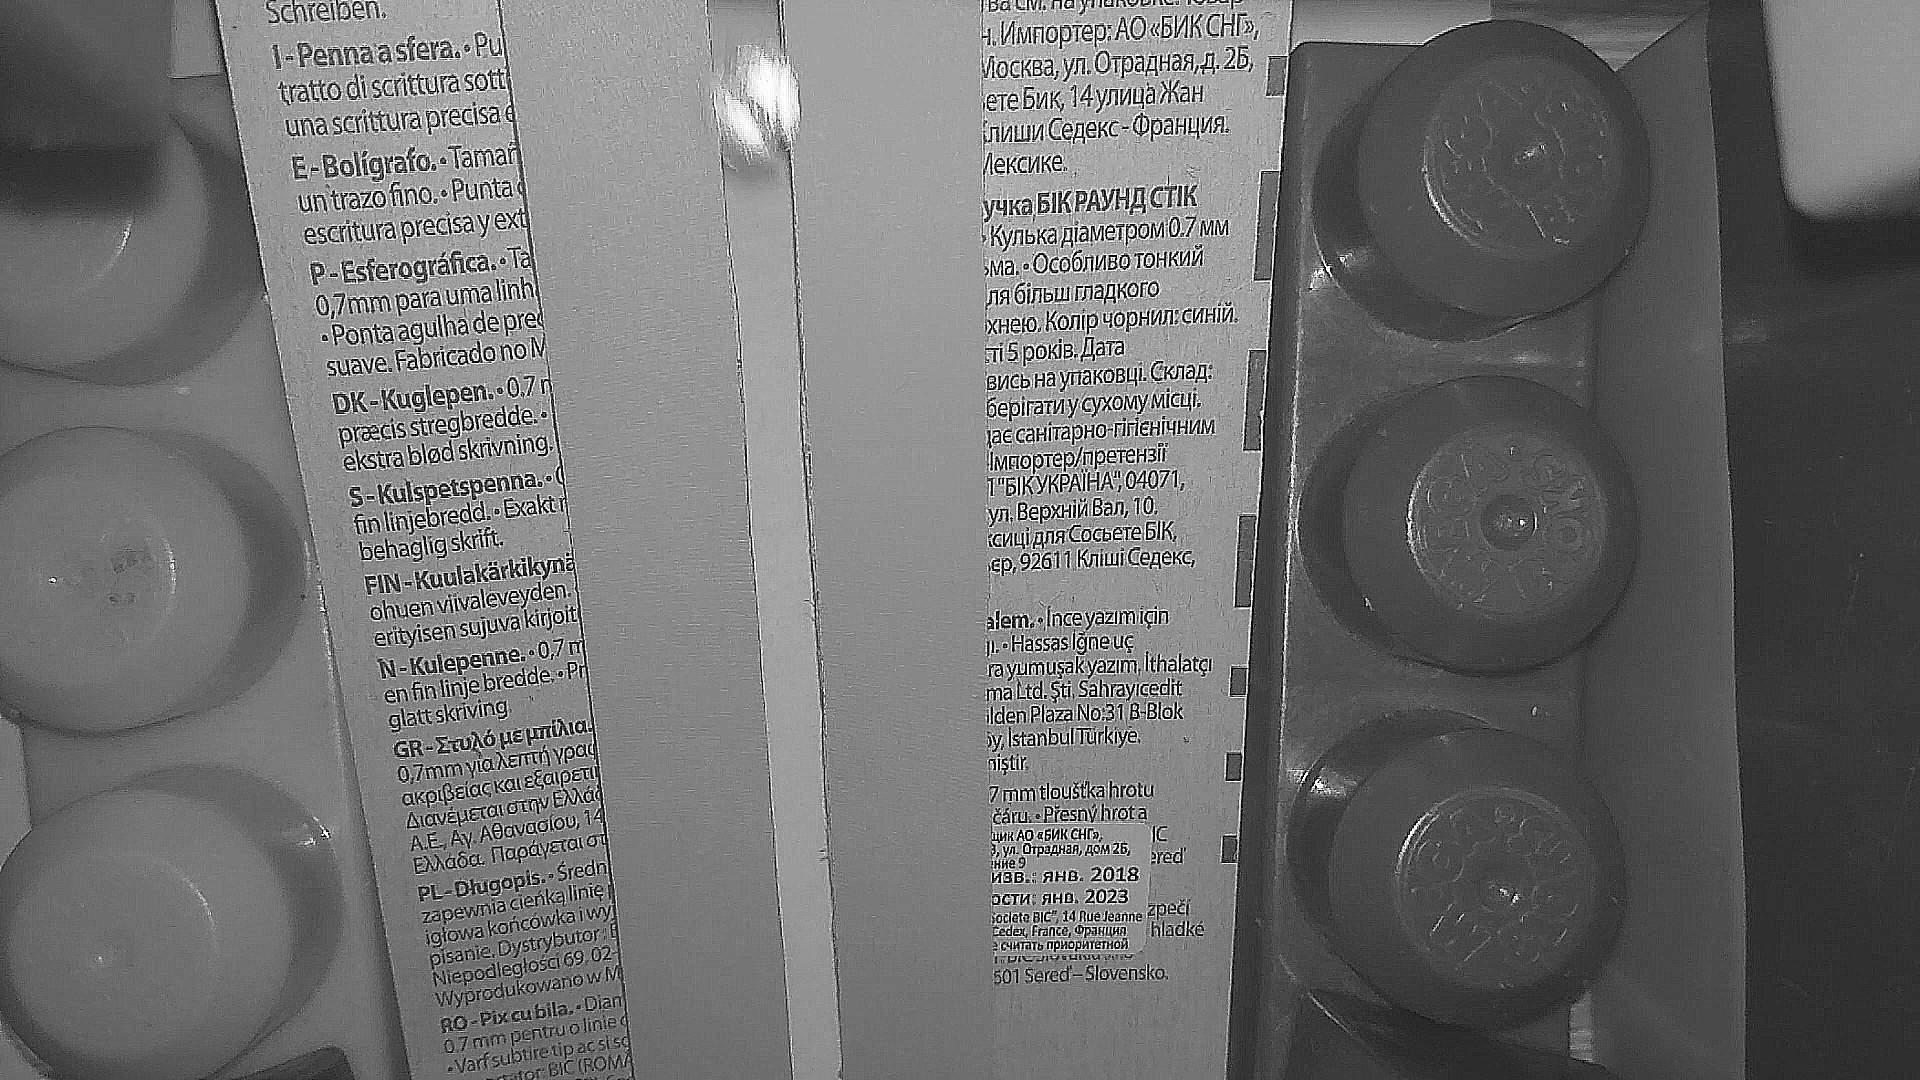i: (715, 62, 804, 165)
